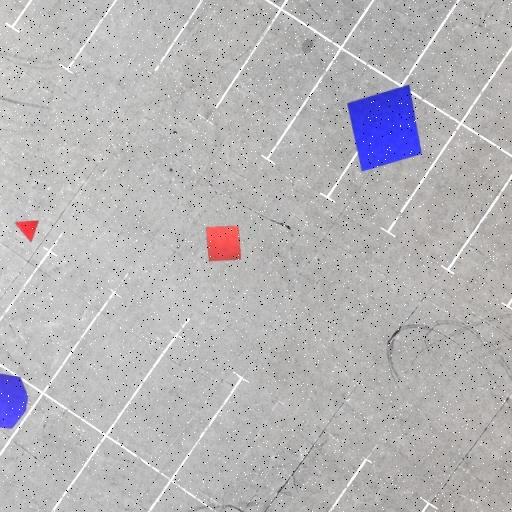BLUE_SQUARE: (346, 84, 422, 172)
RED_SQUARE: (206, 226, 242, 262)
